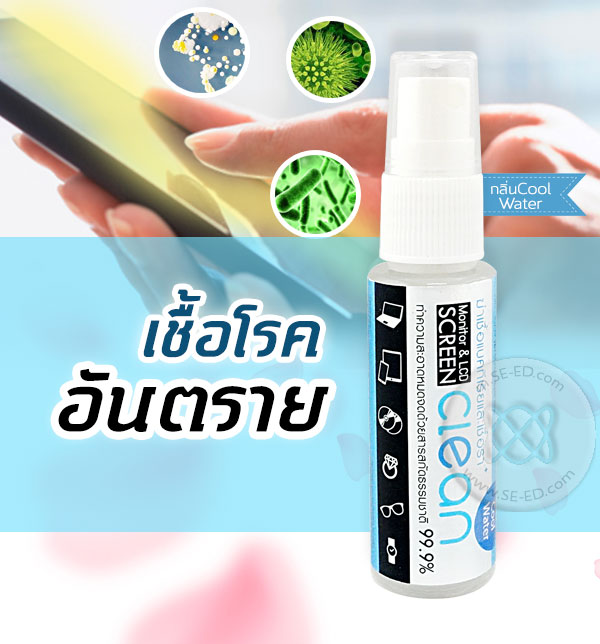Cleaning_solution: (360, 43, 502, 602)
